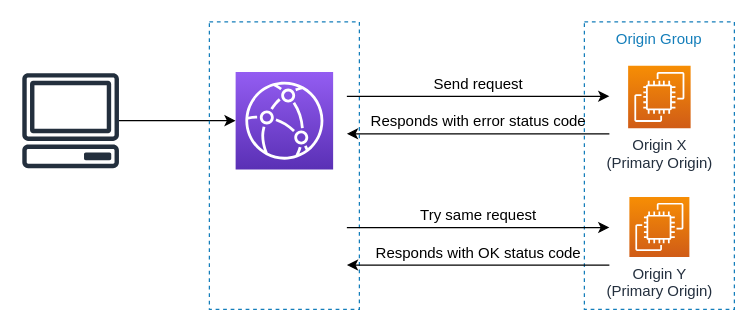
The diagram is 756 pixels wide and 331 high, and some of its shapes have lost their labels. The box of each missing label's shape, as (x1, y1, x2, y2) in pixels:
Amazon CloudFront: (208, 21, 359, 309)
Client: (21, 72, 119, 168)
